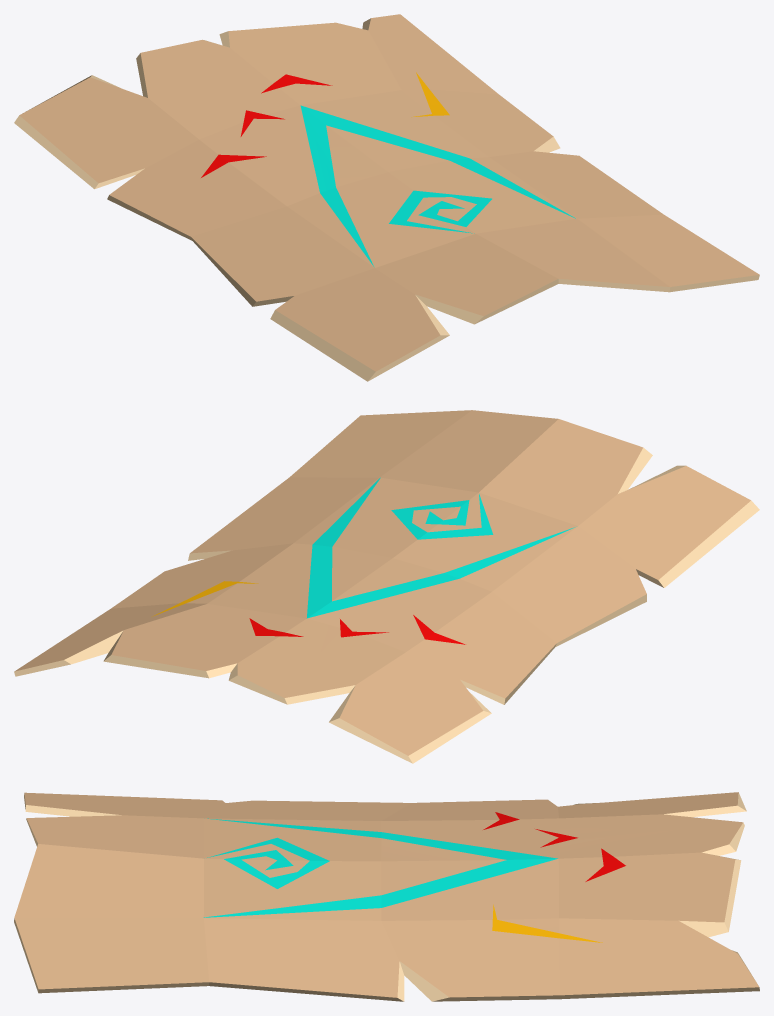
Rendered from Map_01.glb.
The picture shows the model from 3 angles, top to bottom: view 1: azimuth 30°, elevation 25°; view 2: azimuth 150°, elevation 25°; view 3: azimuth 270°, elevation 25°; orthographic projection. The views are drawn at different scales.
Visible parts, largest first — view 1: Map_01; view 2: Map_01; view 3: Map_01.
Boxes of the visible parts, x1,y1,x2,y2 form: Map_01: [14, 14, 759, 381]; Map_01: [14, 410, 759, 763]; Map_01: [14, 792, 759, 1001].
Size of the model in its own units: 0.3395 by 0.0488 by 0.5427.
1 material, 1 textured.
